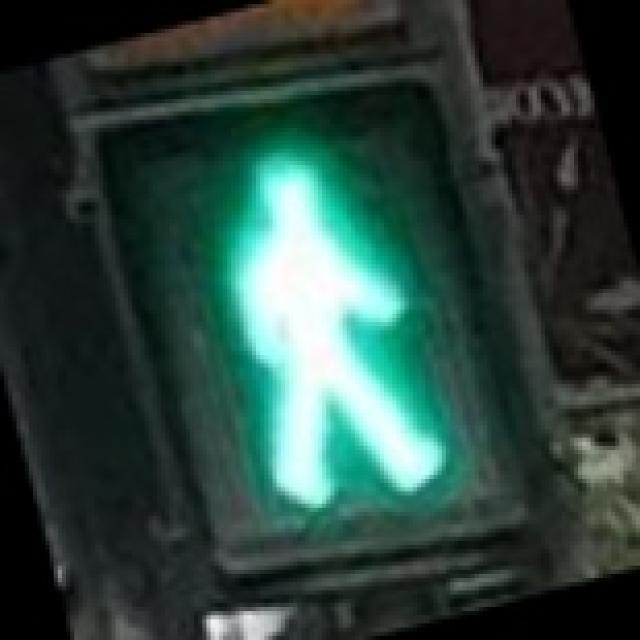green_light: (87, 62, 541, 566)
